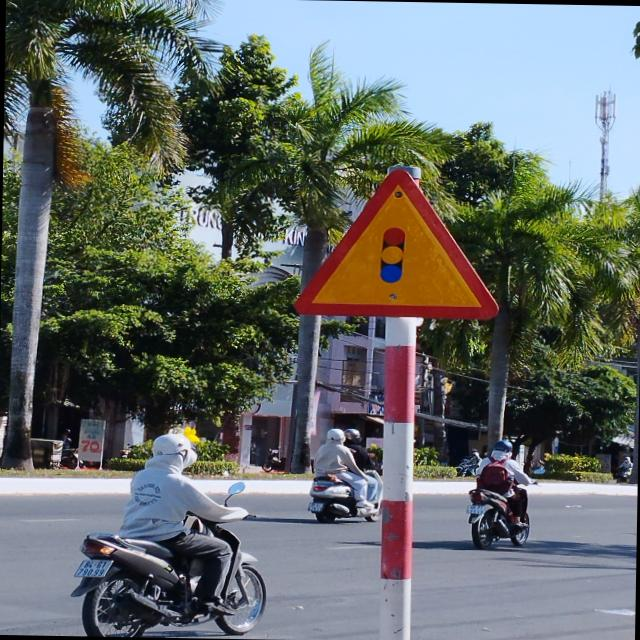Duong_Co_Go_Giam_Toc: (294, 166, 502, 320)
